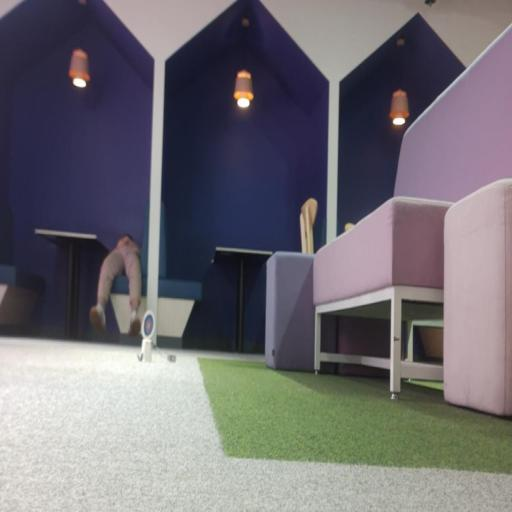target: (141, 310, 155, 344)
